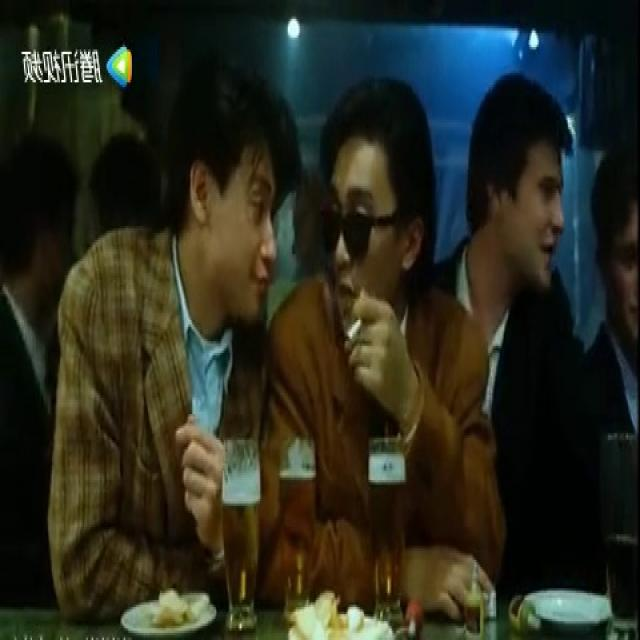smoking: (347, 310, 366, 346)
